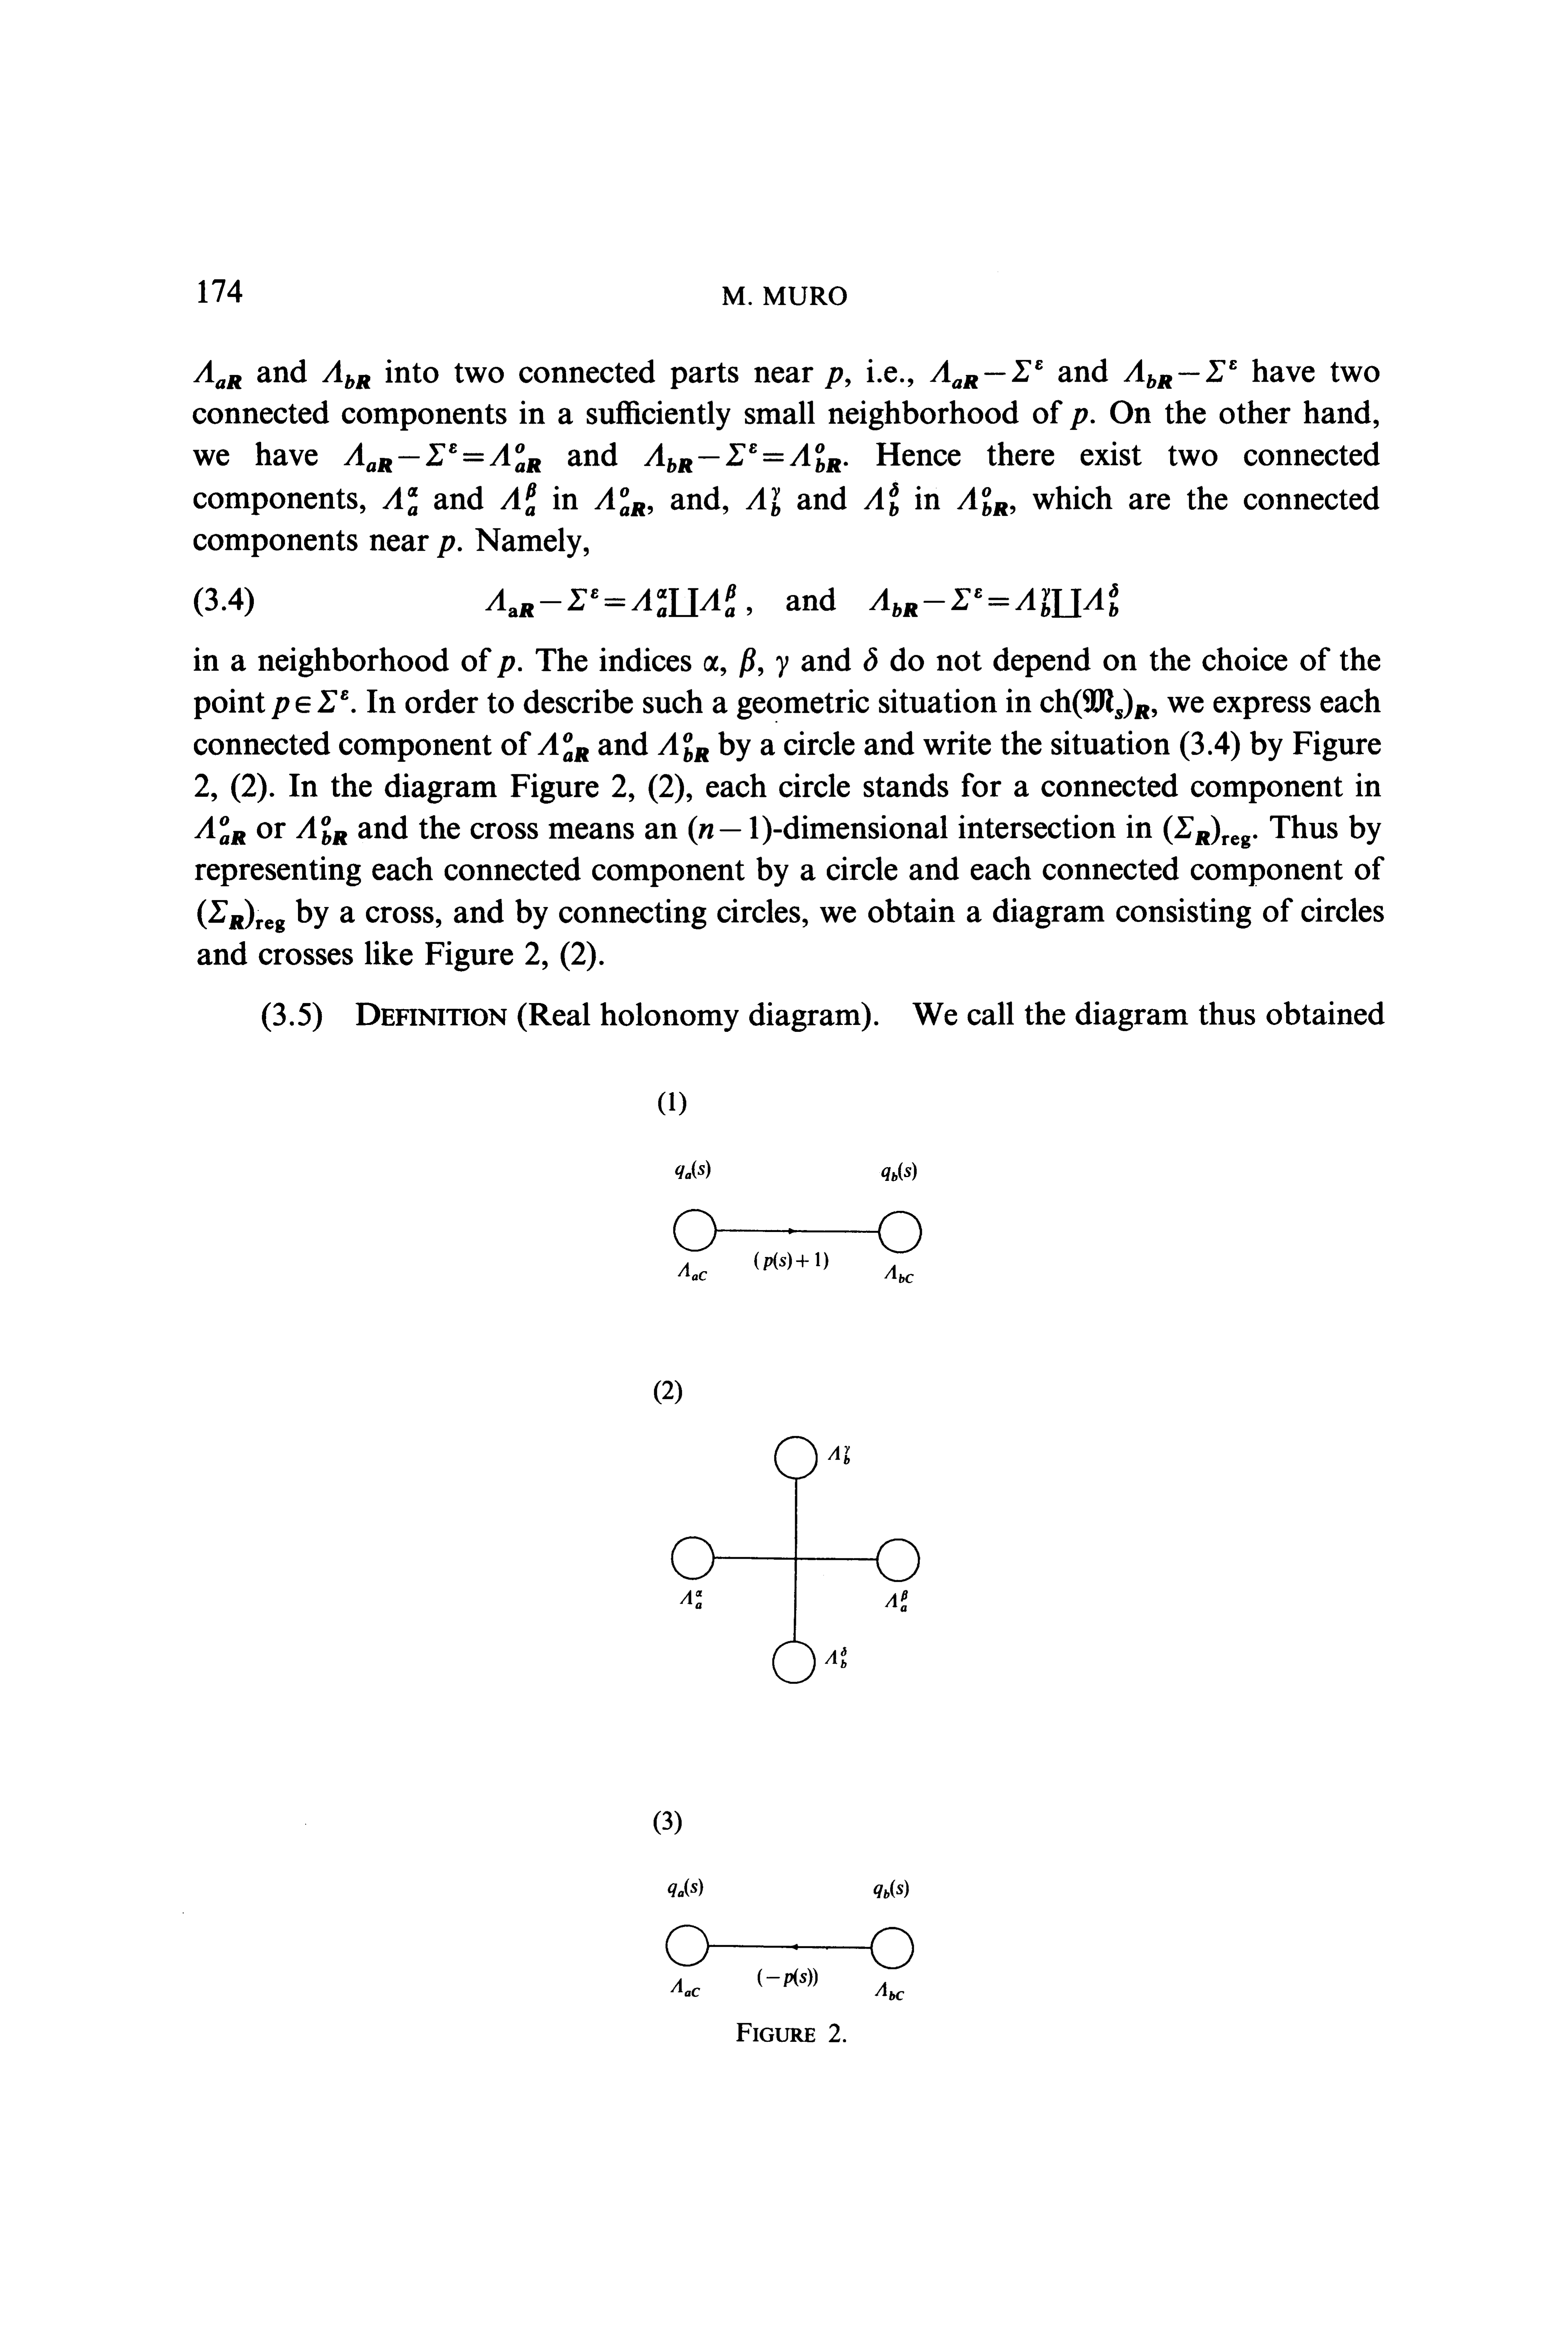maths: (870, 583, 1118, 618), (485, 585, 735, 618), (343, 443, 541, 473), (644, 443, 840, 473), (1123, 359, 1237, 389), (1041, 690, 1150, 719), (929, 361, 1043, 389), (198, 900, 285, 933), (1164, 816, 1249, 849), (688, 816, 772, 845), (271, 690, 348, 719), (957, 487, 1008, 516), (537, 732, 588, 761), (658, 732, 709, 761), (194, 816, 245, 845), (296, 816, 346, 845), (595, 487, 644, 516), (193, 361, 241, 389), (322, 361, 369, 389), (500, 483, 536, 516), (865, 481, 898, 516), (746, 487, 781, 516), (383, 487, 416, 515), (739, 648, 756, 677), (824, 368, 843, 389), (1069, 408, 1088, 429), (438, 536, 455, 557), (497, 656, 514, 677), (865, 648, 877, 670), (775, 656, 788, 677), (703, 656, 717, 672)
